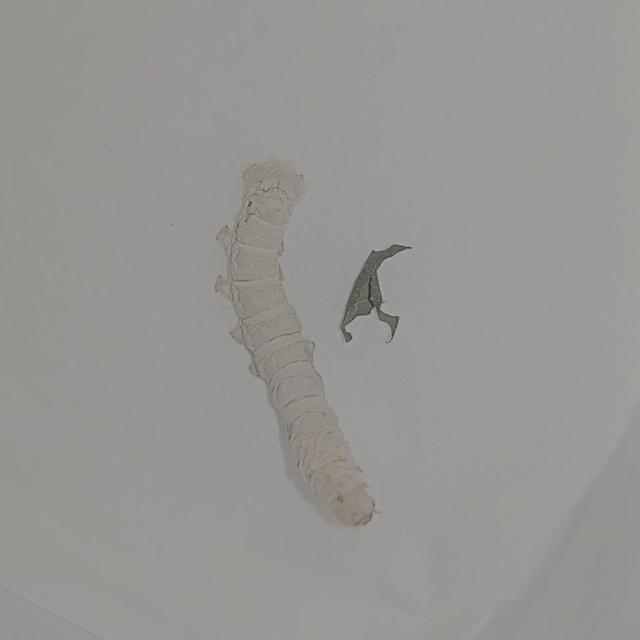Healthy: (204, 150, 394, 536)
